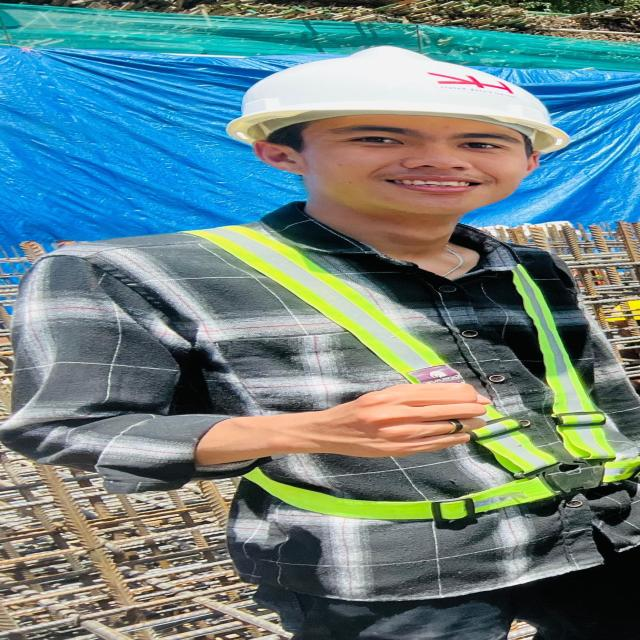safetyhelmet: (211, 48, 588, 225)
